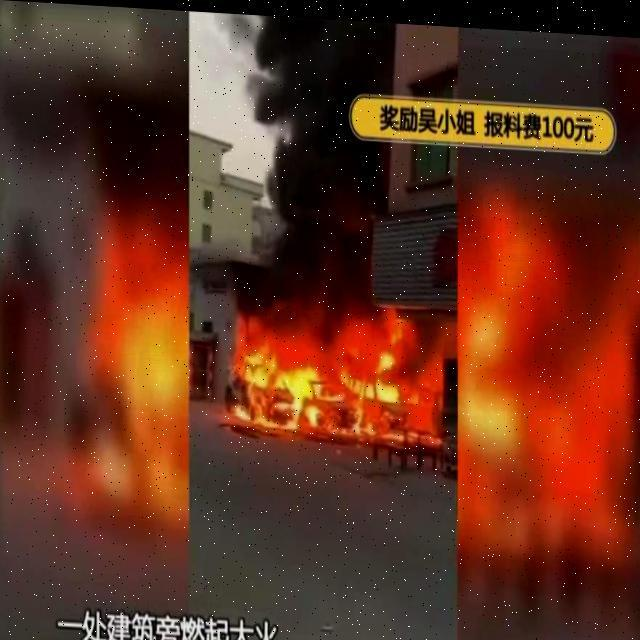Fire: (227, 300, 445, 470)
